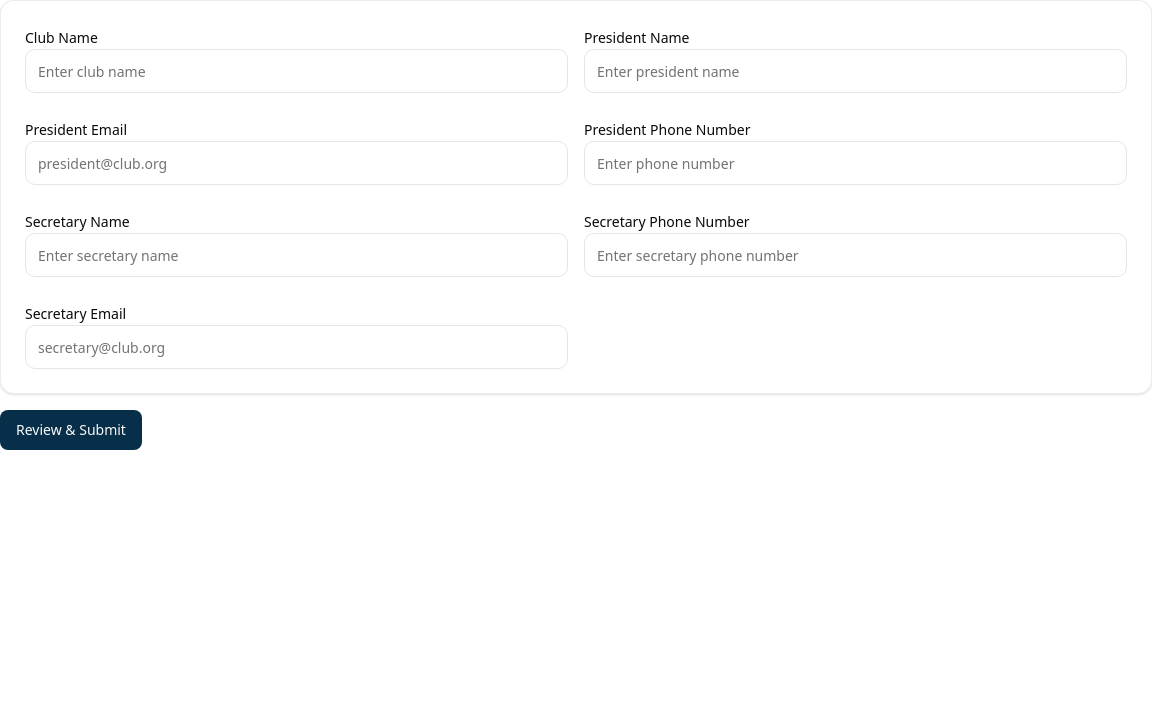
Youth15RegistrationForm › opens the declaration dialog before submit
In the field labelled "Club Name": (296, 71) [25,49,568,93], type "Michigan Falcons"
In the field labelled "President Name": (856, 71) [584,49,1127,93], type "Ava Patel"
In the field labelled "President Email": (296, 163) [25,141,568,185], type "ava@example.com"
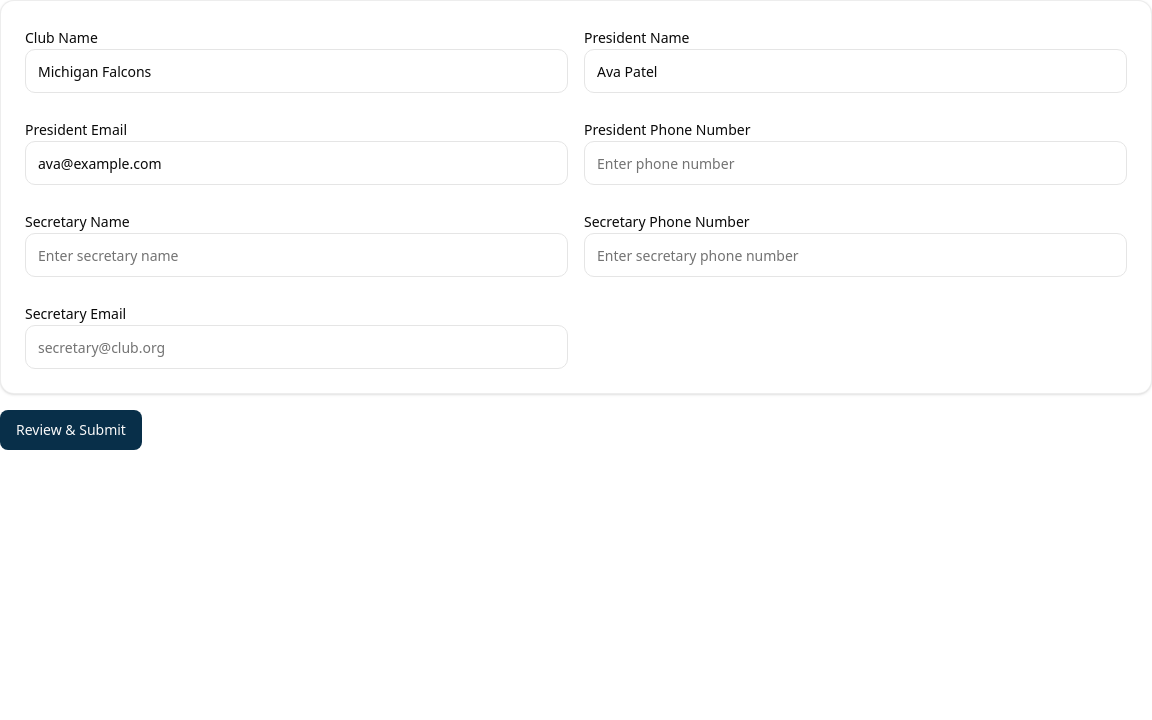
In the field labelled "President Phone Number": (856, 163) [584,141,1127,185], type "248-555-0101"
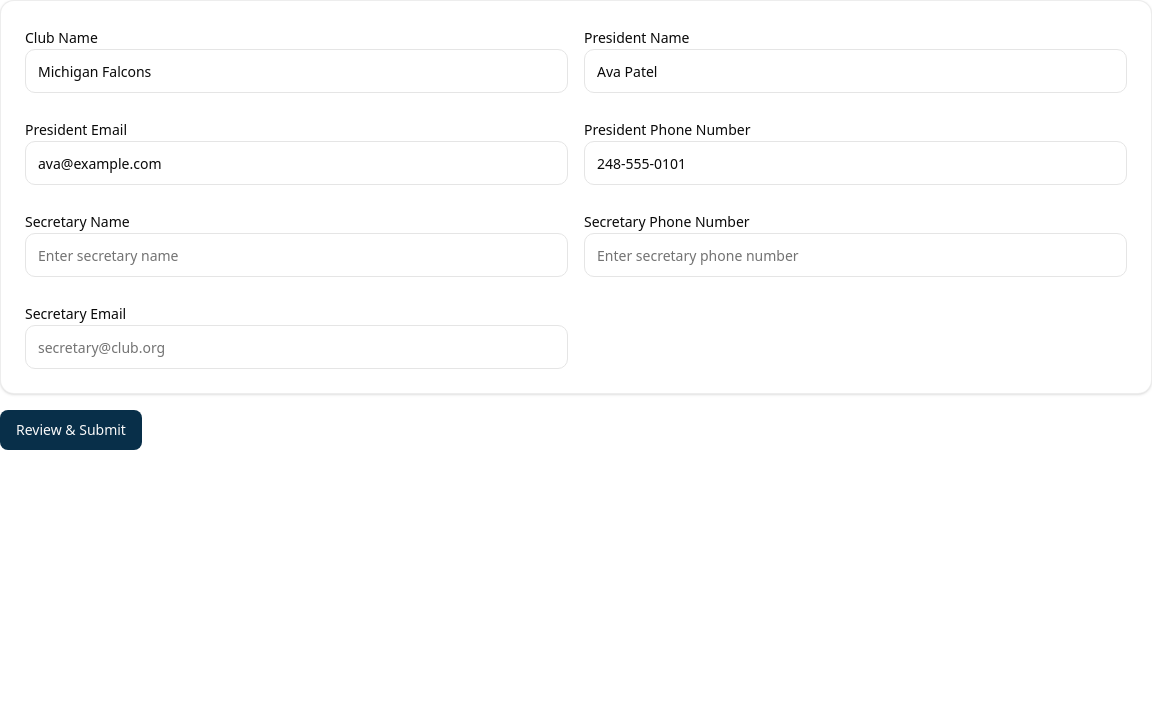
In the field labelled "Secretary Name": (296, 255) [25,233,568,277], type "Maya Shah"
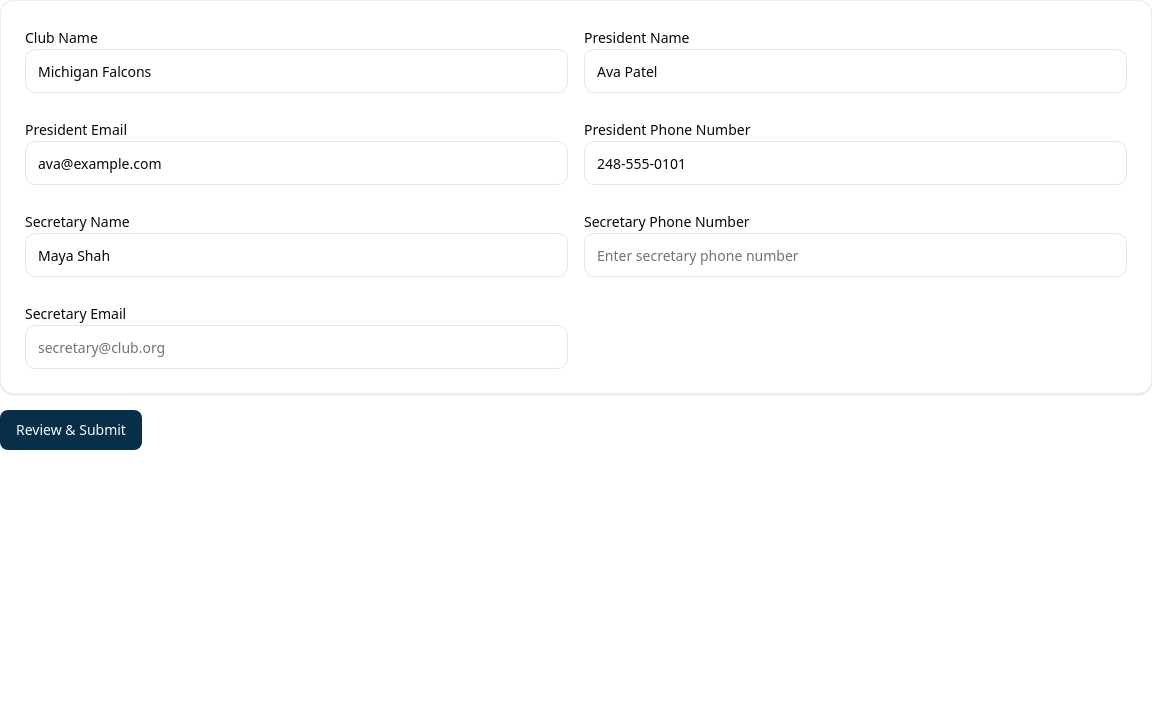
In the field labelled "Secretary Phone Number": (856, 255) [584,233,1127,277], type "248-555-0102"
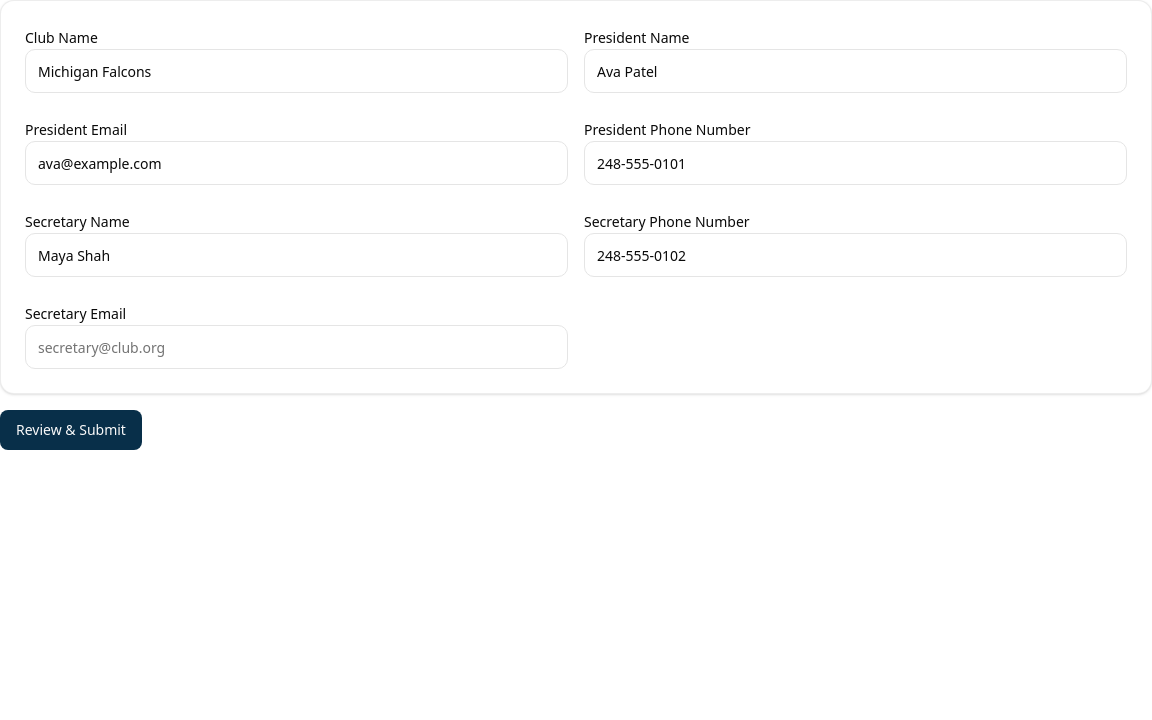
In the field labelled "Secretary Email": (296, 347) [25,325,568,369], type "maya@example.com"
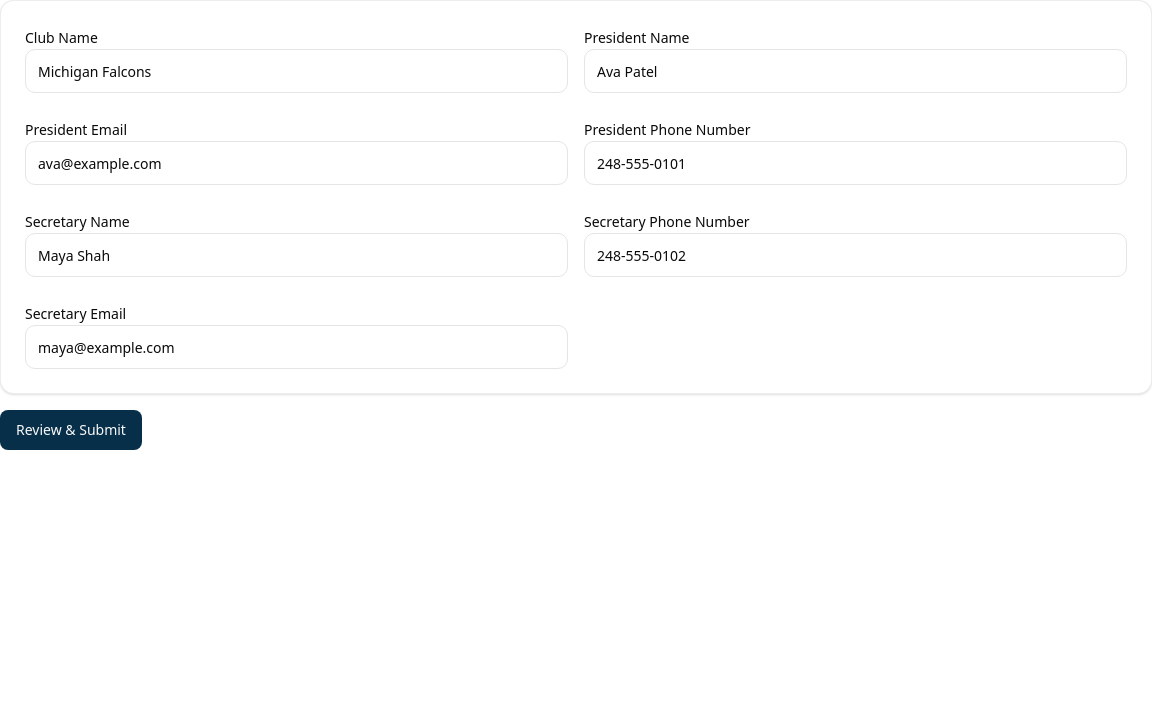
Click the button "Review & Submit": (71, 430) [0,410,142,450]
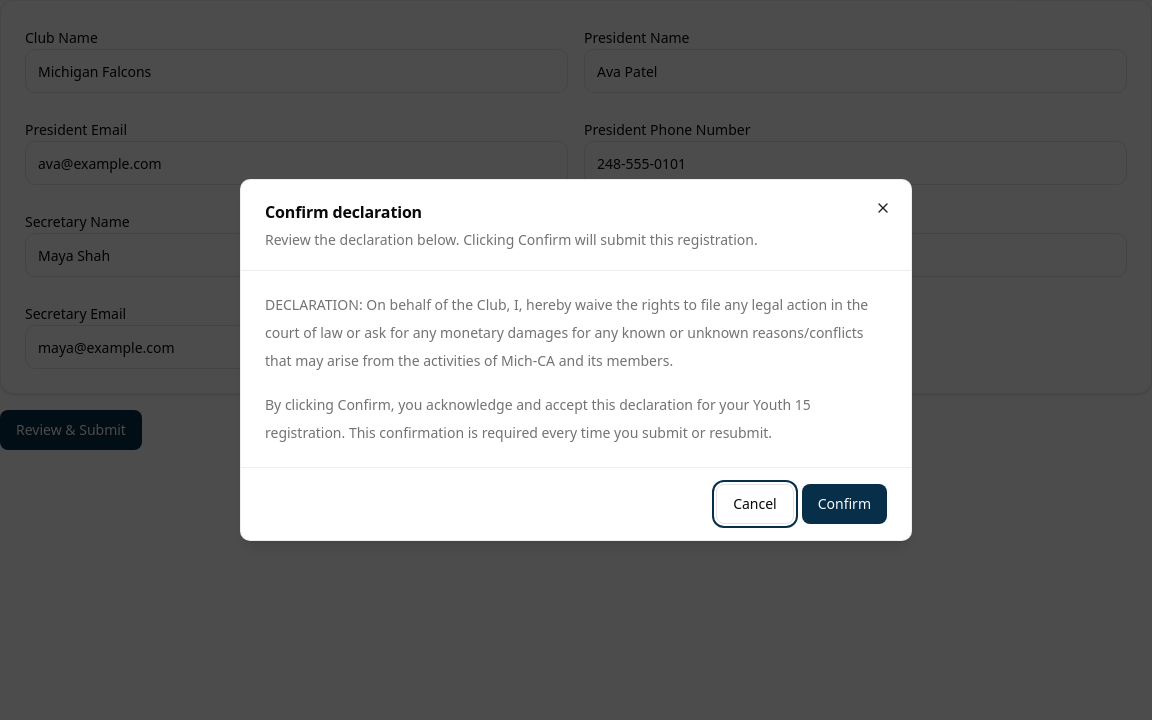
Result: the heading "Confirm declaration" is shown at [265,201,422,223]
Result: the text "waive the rights to file any legal action" is shown at [265,295,868,370]
